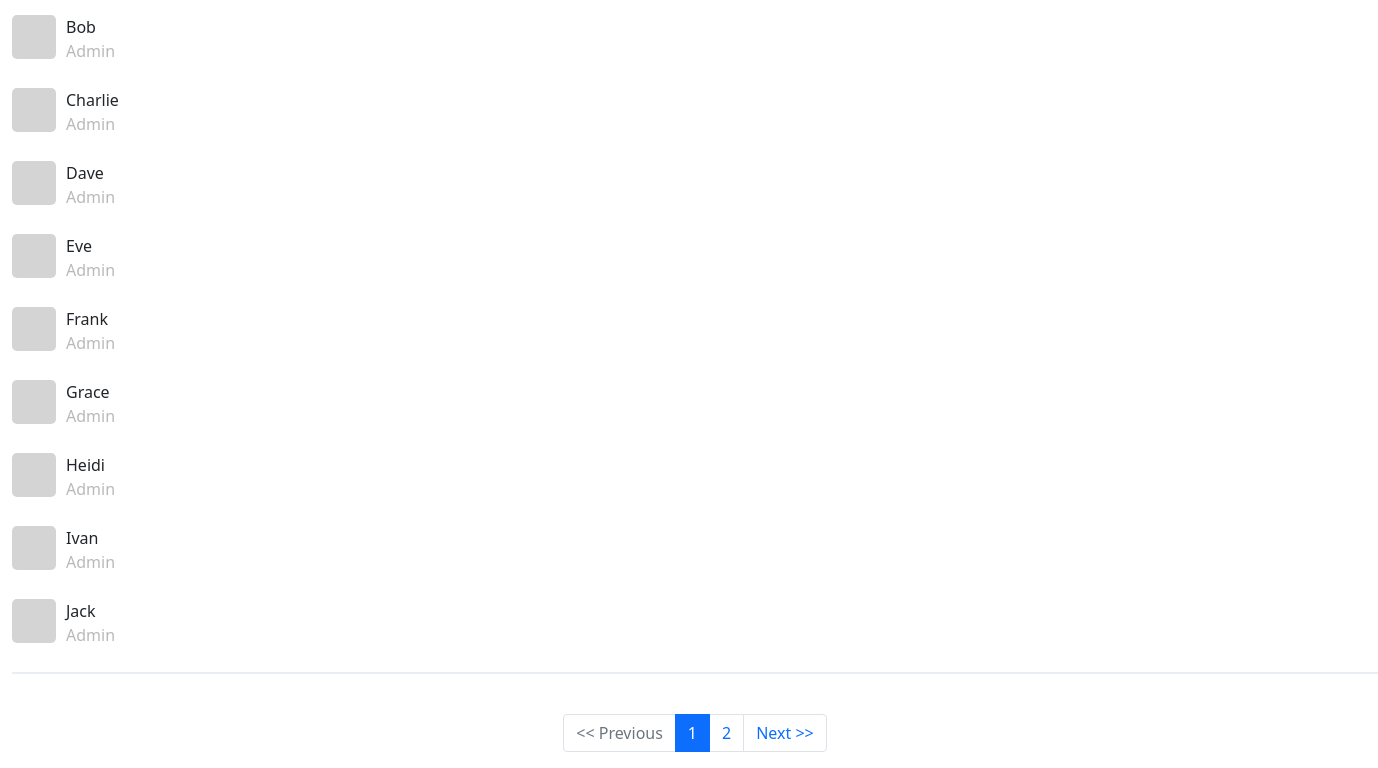
Test: ListCustomers test suite › renders the correct customer items in the second page
The width and height of the screenshot is (1378, 768).
(page scrolled)
Click the button "Next >>": point(785, 733) [743, 714, 827, 752]
(page scrolled)
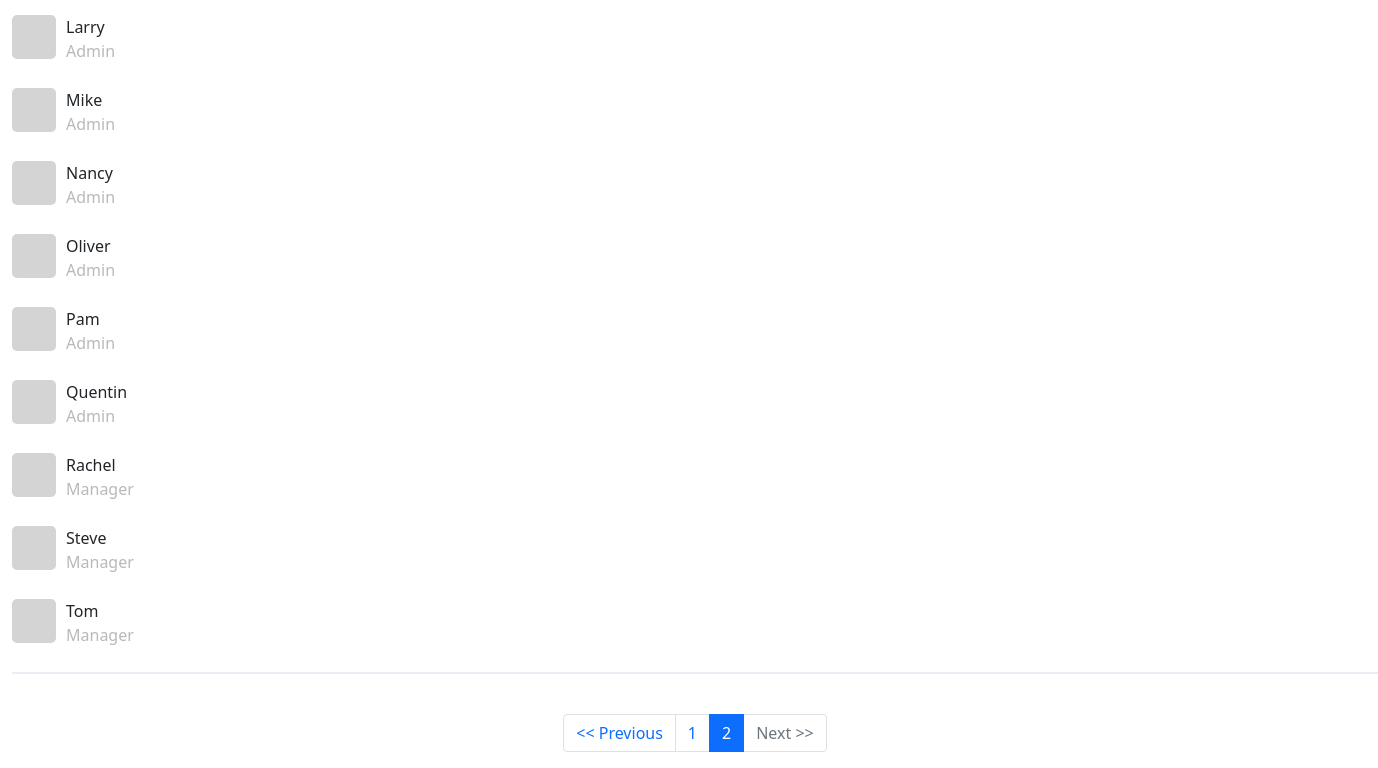
Check: the element with test id "customer-item" reads "Larry Admin", box [12, 15, 115, 63]
Check: the element with test id "customer-item" reads "Mike Admin", box [12, 88, 115, 136]
Check: the element with test id "customer-item" reads "Nancy Admin", box [12, 161, 115, 209]
